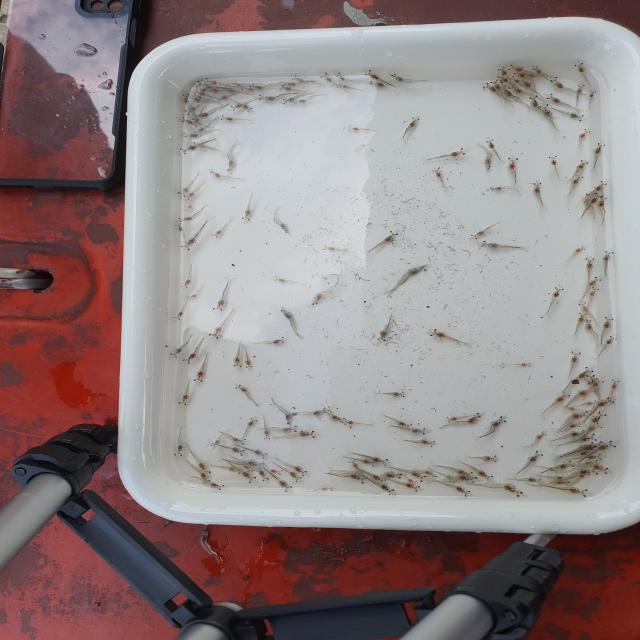babyshrimp: (498, 483, 531, 497), (523, 450, 550, 465), (310, 291, 332, 309), (590, 439, 618, 453), (339, 471, 369, 484), (581, 275, 601, 294), (489, 414, 511, 431), (405, 264, 433, 277), (210, 294, 230, 312), (206, 325, 228, 341), (445, 145, 471, 158), (565, 486, 591, 499), (180, 351, 202, 366), (179, 237, 200, 252), (589, 410, 609, 425), (413, 437, 440, 448), (190, 112, 214, 124), (367, 472, 389, 485), (168, 345, 187, 360), (544, 92, 564, 106), (477, 239, 502, 250), (381, 230, 402, 243), (595, 396, 616, 409), (405, 115, 423, 130), (505, 62, 525, 75), (427, 166, 447, 179), (362, 69, 382, 82), (377, 481, 397, 494), (575, 159, 592, 174), (567, 349, 584, 364), (400, 482, 423, 493), (537, 103, 555, 117), (276, 482, 297, 494), (240, 470, 258, 484), (415, 469, 440, 479), (177, 145, 202, 155), (476, 469, 495, 482), (593, 141, 608, 157), (482, 137, 497, 153), (386, 71, 406, 83), (601, 250, 616, 266), (372, 456, 392, 468), (547, 76, 565, 89), (588, 377, 606, 390), (253, 470, 271, 483), (356, 457, 377, 468), (463, 412, 484, 423), (428, 329, 449, 340), (226, 446, 247, 457), (407, 473, 430, 483), (289, 464, 308, 476), (174, 185, 193, 197), (573, 61, 587, 77), (550, 286, 566, 300), (177, 392, 193, 406), (480, 81, 497, 94), (454, 484, 471, 497), (255, 93, 277, 103), (591, 179, 609, 191), (180, 192, 204, 201), (180, 131, 204, 140), (506, 157, 520, 172), (602, 315, 616, 330), (287, 472, 302, 486), (553, 391, 572, 402), (182, 105, 201, 116), (596, 195, 609, 211), (197, 462, 213, 475), (278, 308, 294, 321), (225, 159, 241, 172), (603, 334, 620, 346), (595, 464, 612, 476), (382, 470, 402, 480), (310, 407, 332, 416), (279, 96, 297, 107), (489, 78, 504, 91), (482, 156, 495, 171), (575, 301, 591, 313), (579, 366, 595, 378), (468, 231, 487, 241), (208, 481, 227, 491), (555, 460, 576, 469), (568, 112, 585, 123), (252, 448, 269, 459), (232, 383, 249, 394), (527, 94, 541, 107), (584, 257, 598, 270), (609, 377, 623, 390), (578, 128, 593, 140), (334, 72, 352, 82), (480, 454, 500, 463), (279, 424, 299, 433), (245, 461, 265, 470), (286, 74, 306, 83), (319, 244, 341, 252), (493, 65, 509, 76), (517, 78, 533, 89), (318, 72, 334, 83), (248, 83, 270, 91), (579, 433, 598, 442), (574, 468, 593, 477), (395, 422, 414, 431), (206, 168, 223, 178), (546, 154, 560, 166), (587, 193, 601, 205), (347, 459, 361, 471), (238, 101, 252, 113), (573, 245, 588, 256), (230, 437, 248, 446), (340, 418, 356, 428), (227, 466, 243, 476), (171, 312, 187, 322), (193, 81, 213, 89), (531, 182, 544, 194), (576, 312, 589, 324), (198, 472, 211, 484), (194, 370, 206, 383), (241, 208, 253, 221), (534, 430, 548, 441), (377, 328, 388, 342), (244, 417, 258, 428), (412, 427, 429, 436), (530, 65, 545, 75), (297, 431, 318, 438), (331, 416, 347, 425), (231, 357, 243, 369), (270, 336, 288, 344), (179, 215, 195, 224), (228, 102, 244, 111), (202, 77, 220, 85), (572, 174, 585, 185), (284, 414, 295, 427), (244, 359, 257, 370), (180, 92, 191, 105), (366, 81, 386, 88), (579, 399, 596, 407), (587, 89, 599, 100), (589, 286, 600, 298), (583, 318, 595, 329), (174, 444, 184, 457), (391, 390, 407, 398), (219, 114, 235, 122), (278, 84, 294, 92), (181, 117, 195, 126), (212, 438, 223, 449), (279, 223, 290, 234), (574, 82, 586, 92), (179, 280, 194, 288), (293, 97, 308, 105), (335, 83, 351, 90), (589, 453, 603, 461), (318, 487, 336, 493), (210, 231, 223, 239), (262, 430, 272, 440), (444, 416, 460, 422), (174, 223, 184, 232), (184, 204, 195, 212), (488, 186, 505, 191), (548, 467, 560, 474), (520, 362, 533, 368), (274, 276, 286, 282), (347, 125, 359, 131), (274, 469, 283, 476), (185, 294, 197, 299)
